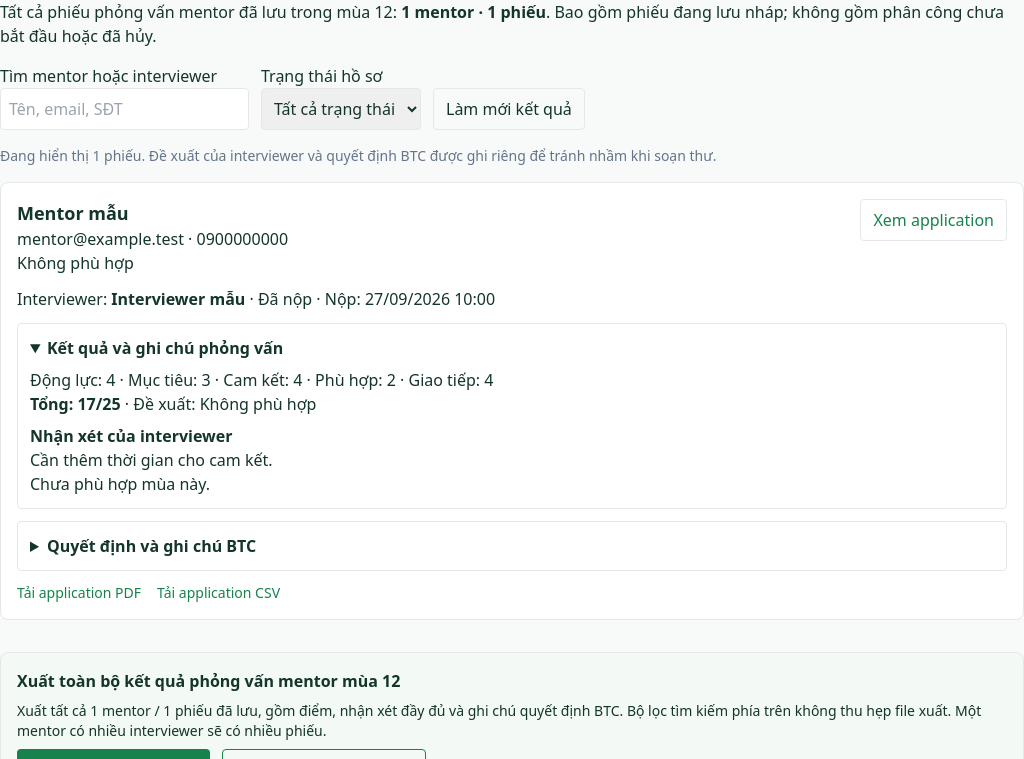
Test: filtering the page does not narrow whole-season exports
Type "not-found" into the field labelled "Tìm mentor hoặc interviewer" at {"x": 124, "y": 109}, box [0,88,249,130]
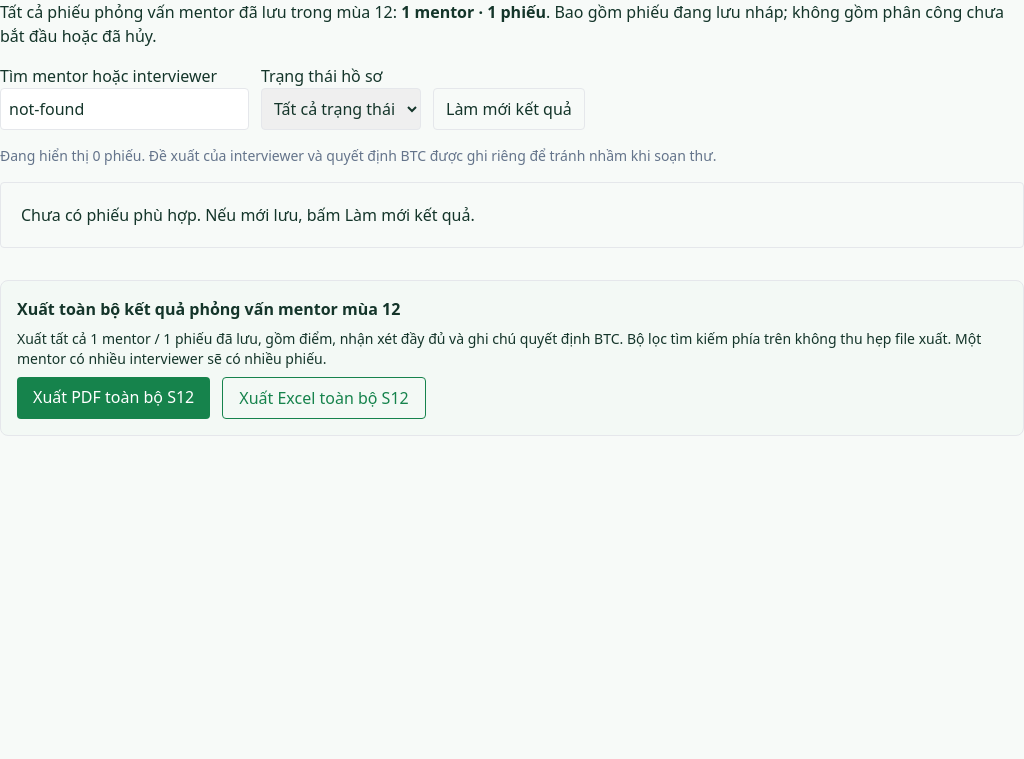
Expected: the link "Xem application" is gone
